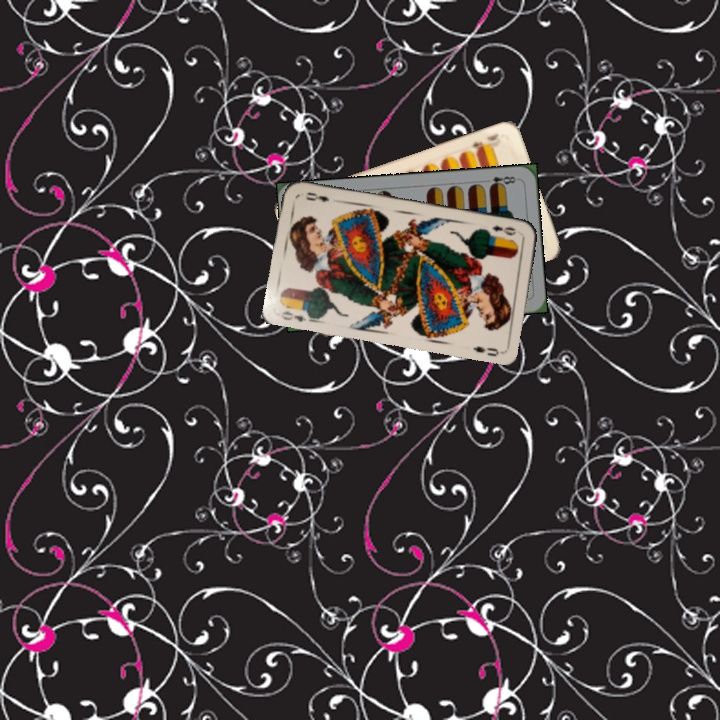E10: (468, 129, 501, 154)
E8: (480, 172, 521, 190)
EO: (276, 303, 316, 325), (488, 221, 519, 238)
